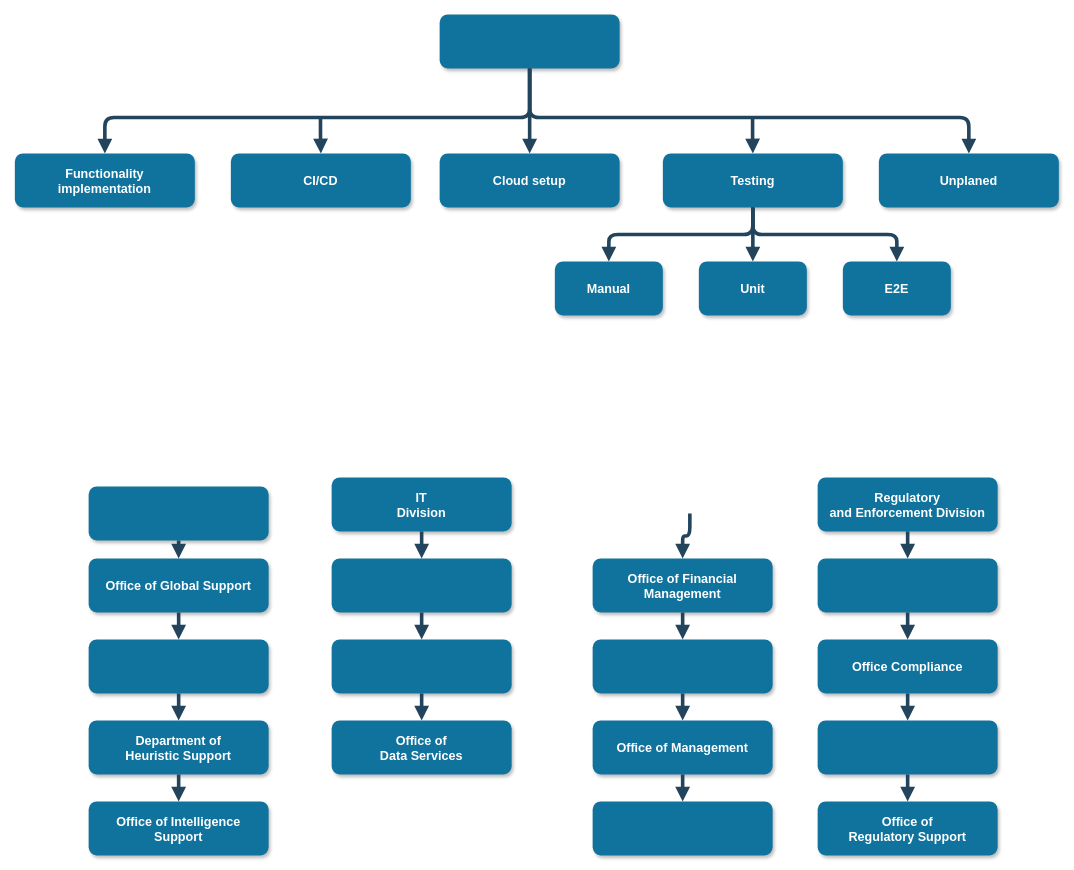
Some shapes in this 1074 by 870 pixel diagram are drawn without their labels. The centre of each missing label's shape, as x and y in pixels:
"Analysis Division" belongs at [179,514].
"Database Administration" belongs at [422,586].
"Office of Backtrack Analysis" belongs at [179,667].
"Office of Enforcement" belongs at [908,748].
"Office of Human Resources" belongs at [683,667].
"Office of Regulatory Policy" belongs at [908,586].
"Office of Technology Research" belongs at [422,667].
"Office of Training Services" belongs at [683,829].
"Promotion project" belongs at [530,42].
